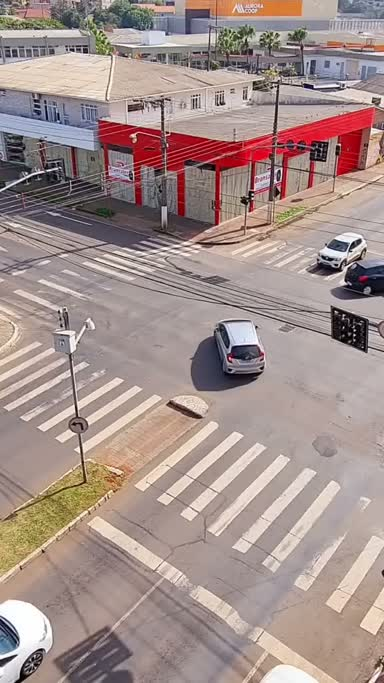car: (0, 590, 55, 681), (208, 312, 272, 389), (318, 223, 368, 275), (343, 258, 384, 297)
